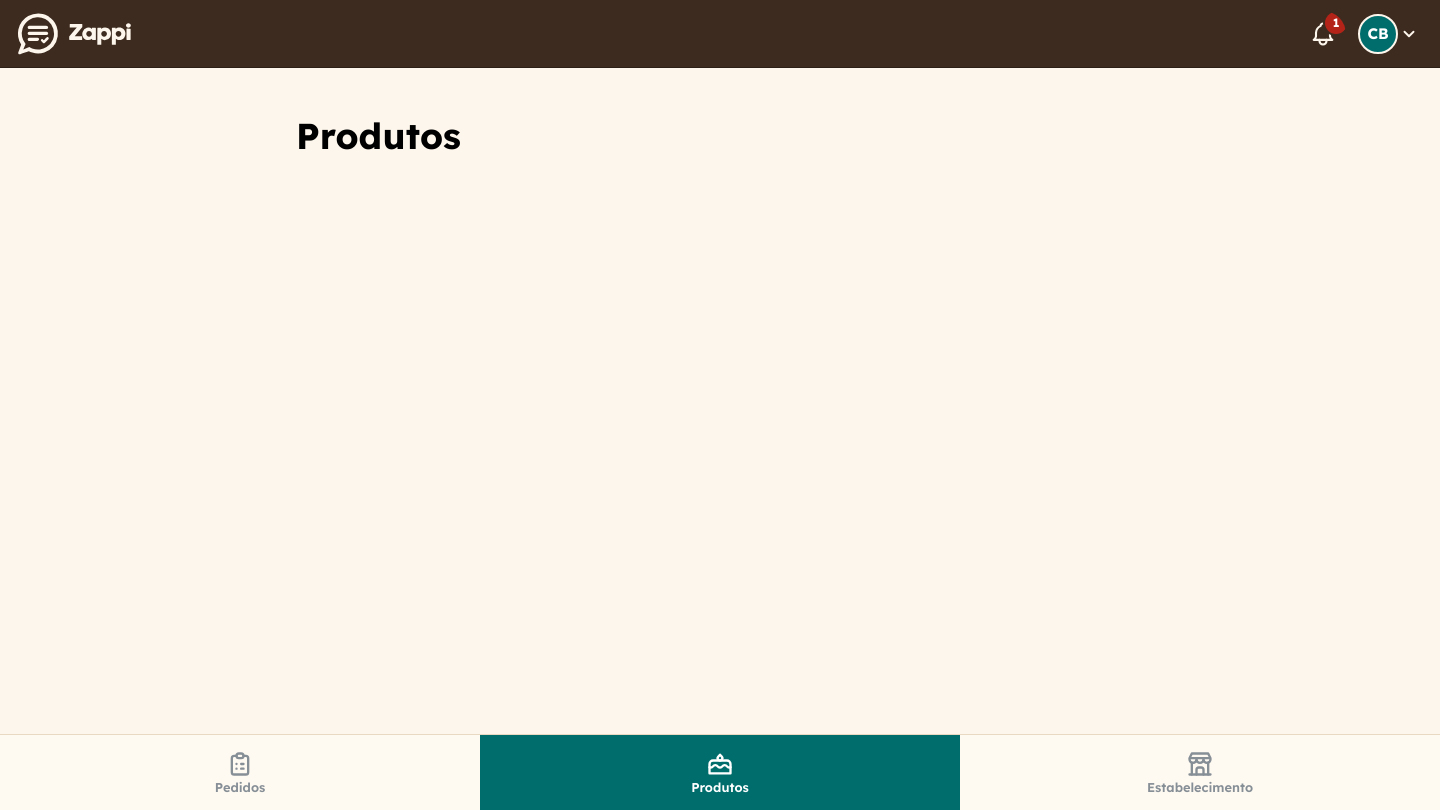
Test: sino de notificações (ZAP-175) › Esc fecha a caixinha e o foco volta ao sino
The image size is (1440, 810).
Click the button named "Notificações" at [1323, 34], box [1300,10,1346,56]
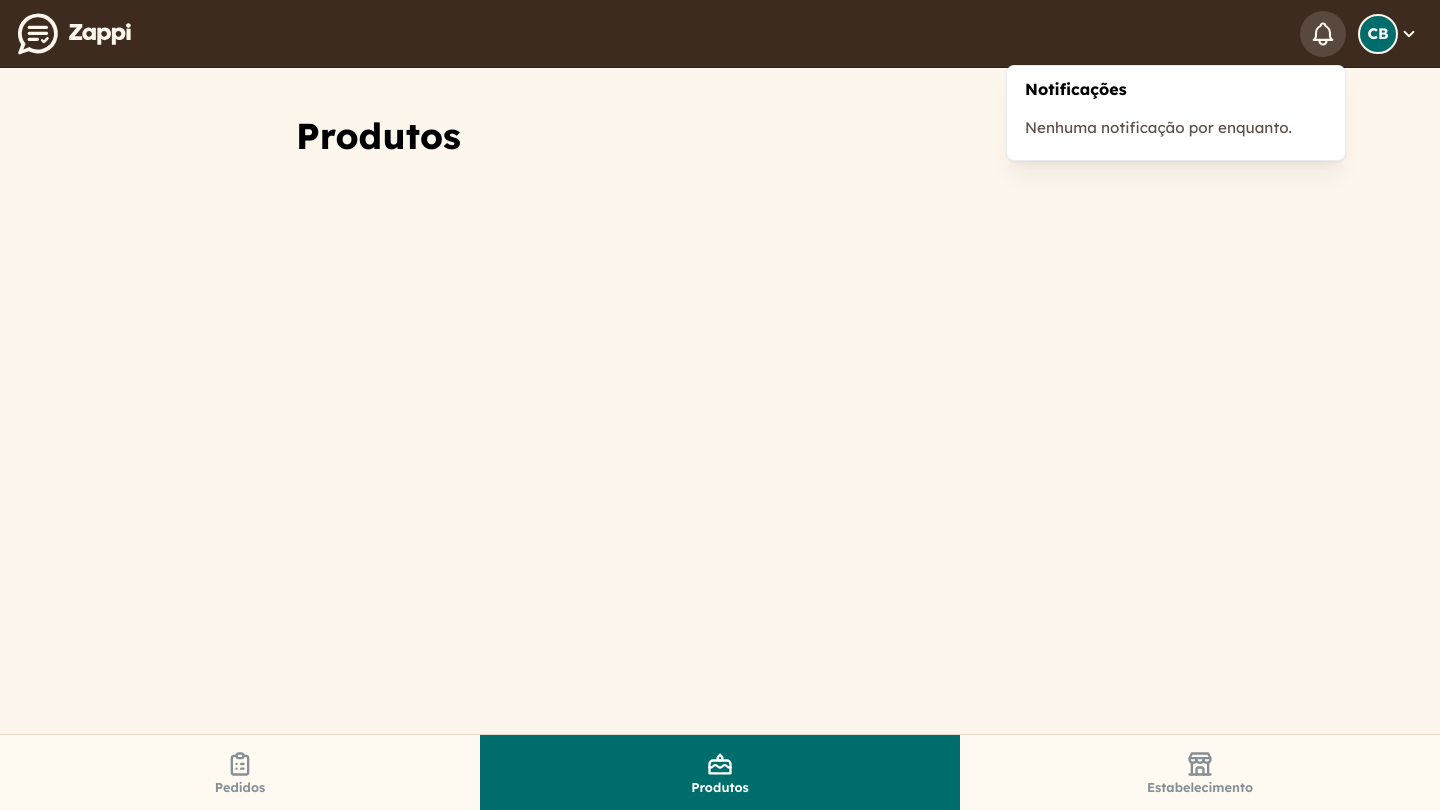
Check: the text "Nenhuma notificação por enquanto." is shown, box [1025,118,1292,137]
Press Escape
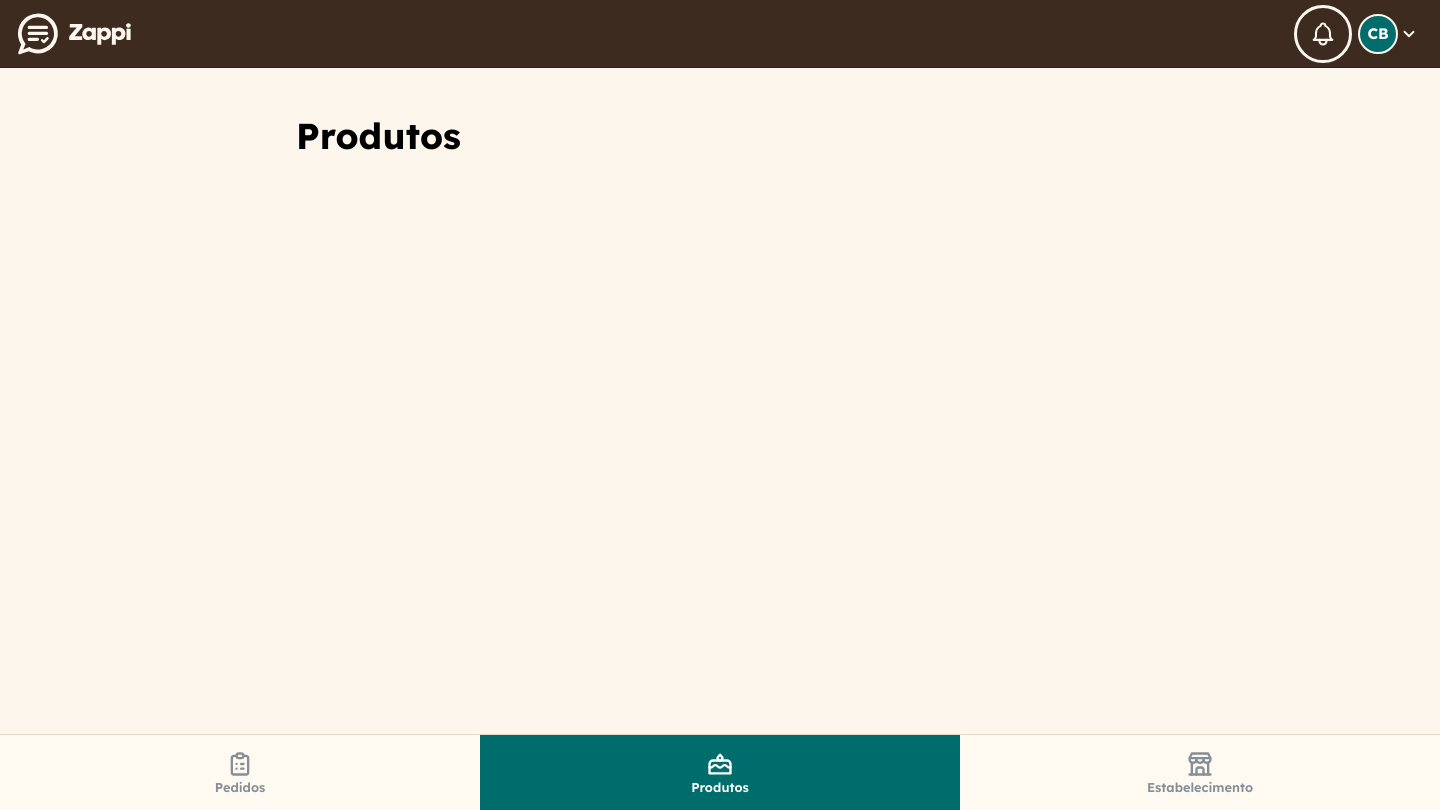
Check: the menu is gone
